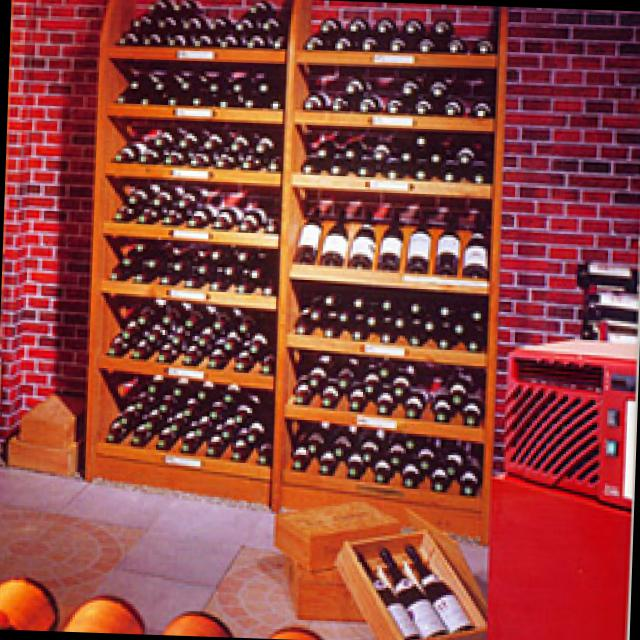bottle crop: (402, 541, 472, 630), (377, 545, 444, 634), (354, 551, 417, 636), (344, 204, 373, 267), (317, 203, 346, 262), (375, 205, 401, 268), (402, 208, 428, 271), (459, 210, 485, 273), (432, 209, 456, 272), (292, 202, 318, 260)
bottles occluded: (103, 374, 269, 463), (287, 347, 477, 421), (288, 424, 480, 493), (104, 297, 271, 371), (290, 290, 483, 348), (106, 236, 274, 293), (298, 133, 487, 181), (108, 120, 281, 168), (111, 181, 274, 231), (302, 76, 490, 116), (115, 0, 282, 44), (113, 66, 280, 106), (300, 13, 487, 48)
box contants: (331, 529, 484, 640), (270, 494, 398, 565)
box of tea: (279, 554, 362, 619)
counter bottom: (479, 469, 629, 640)
floor -X: (0, 462, 627, 640)
shelves crop: (82, 0, 504, 541)
wall clock: (0, 0, 640, 543)
